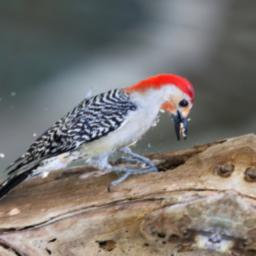Woodpecker: (0, 47, 206, 243)
